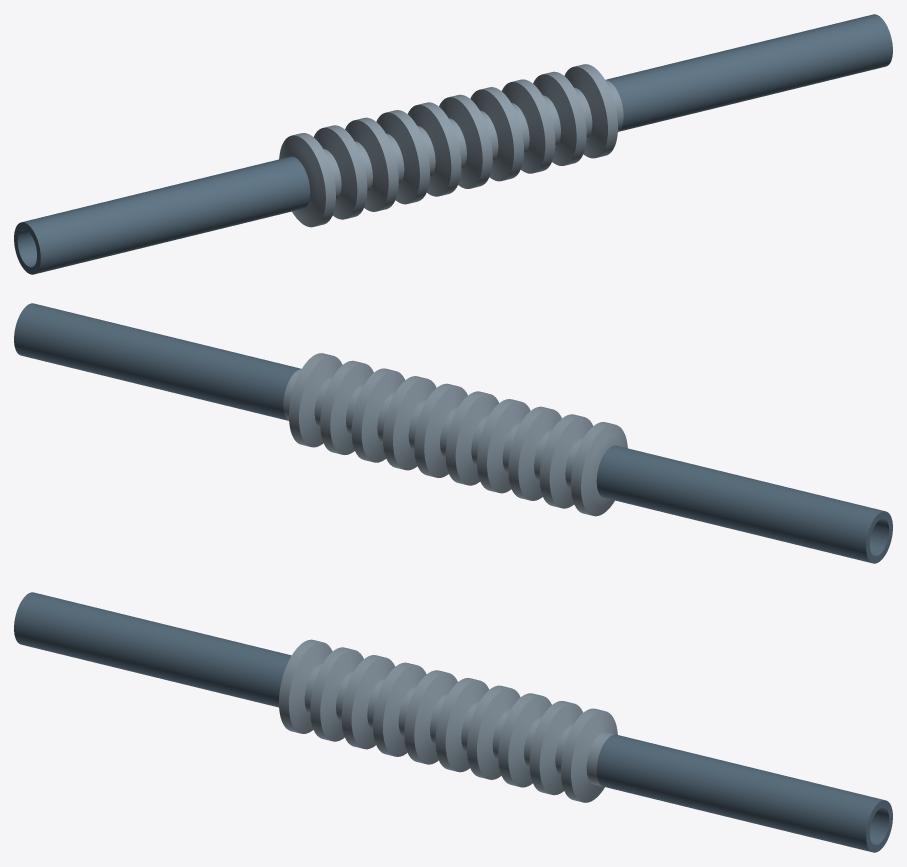
Rendered from silf-dn15-L390-D21_3.glb.
3 renders of one model, top to bottom at view 1: azimuth 30°, elevation 25°; view 2: azimuth 150°, elevation 25°; view 3: azimuth 330°, elevation 25°, orthographic.
Visible parts, largest first — view 1: prokladka_silfon_1, patrubok_1, patrubok_2; view 2: prokladka_silfon_1, patrubok_1, patrubok_2; view 3: prokladka_silfon_1, patrubok_2, patrubok_1.
Boxes of the visible parts, x1=… form: prokladka_silfon_1: x1=279, y1=64, x2=623, y2=227; patrubok_1: x1=14, y1=156, x2=310, y2=274; patrubok_2: x1=605, y1=14, x2=892, y2=131; prokladka_silfon_1: x1=283, y1=353, x2=627, y2=516; patrubok_1: x1=596, y1=445, x2=892, y2=563; patrubok_2: x1=14, y1=303, x2=301, y2=420; prokladka_silfon_1: x1=279, y1=639, x2=617, y2=802; patrubok_2: x1=596, y1=734, x2=892, y2=852; patrubok_1: x1=14, y1=592, x2=291, y2=707.
Bounding box in the file's own units: 390 × 37.3 × 37.3.
